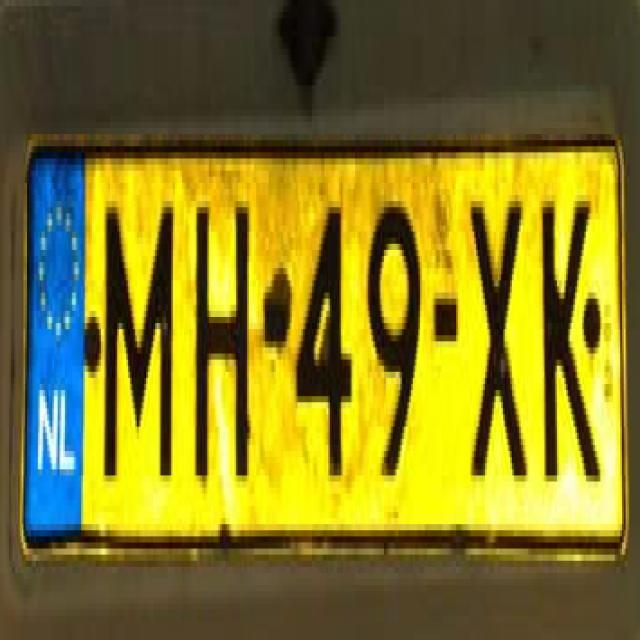EU: (13, 137, 626, 555)
Pays-Bas: (23, 146, 84, 541)
